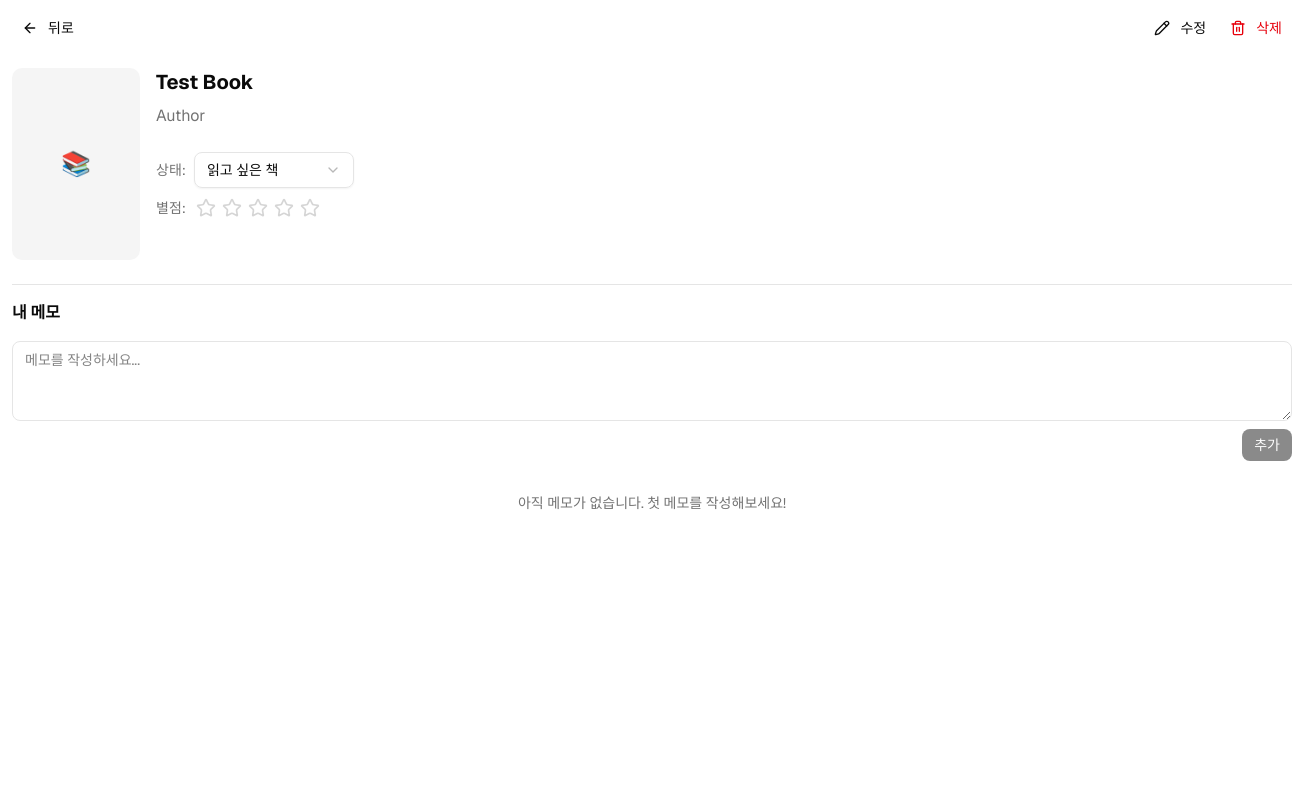
Test: BookDetail - edit mode (T-10.15) › switches to edit form when edit button clicked
Click the button "수정": (1180, 28) [1144, 12, 1216, 44]
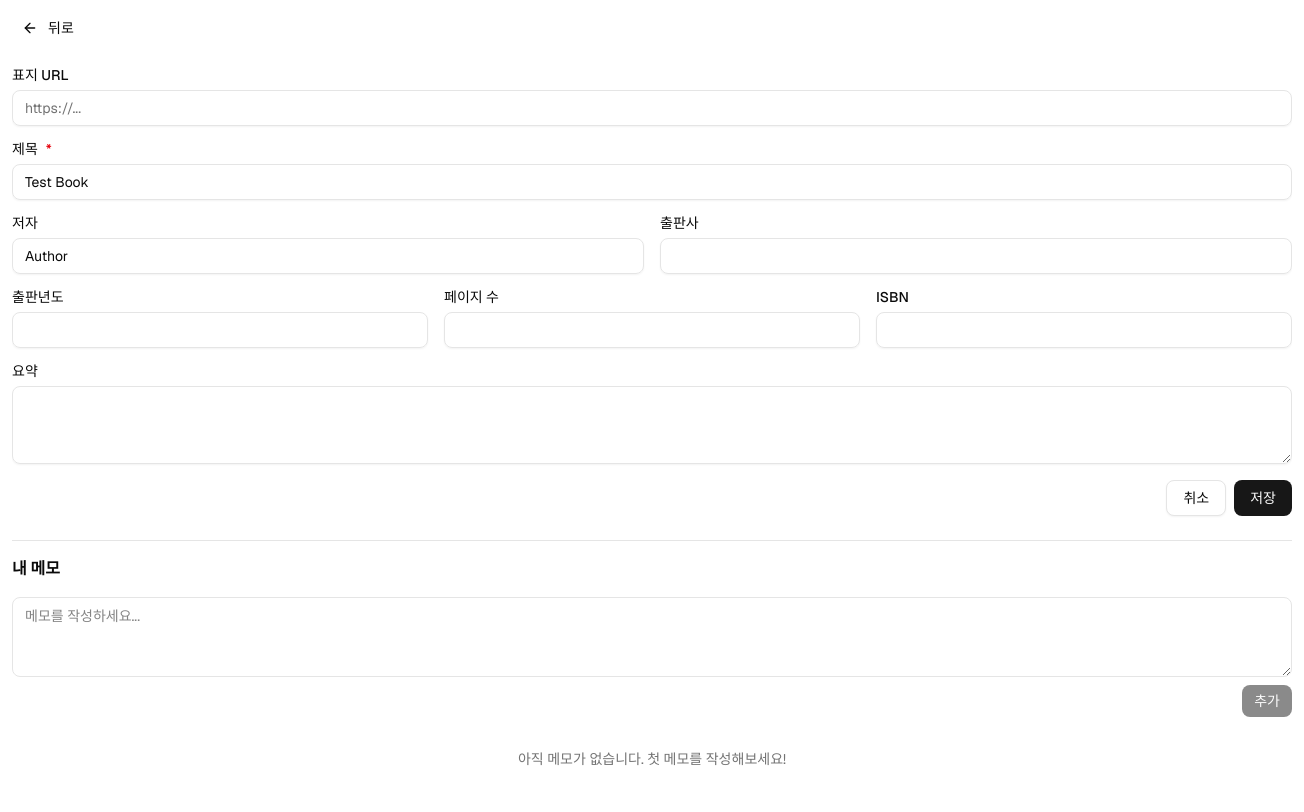
Check: the button "저장" is shown, box [1234, 480, 1292, 516]
Check: the button "취소" is shown, box [1166, 480, 1226, 516]
Check: the button "수정" is gone
